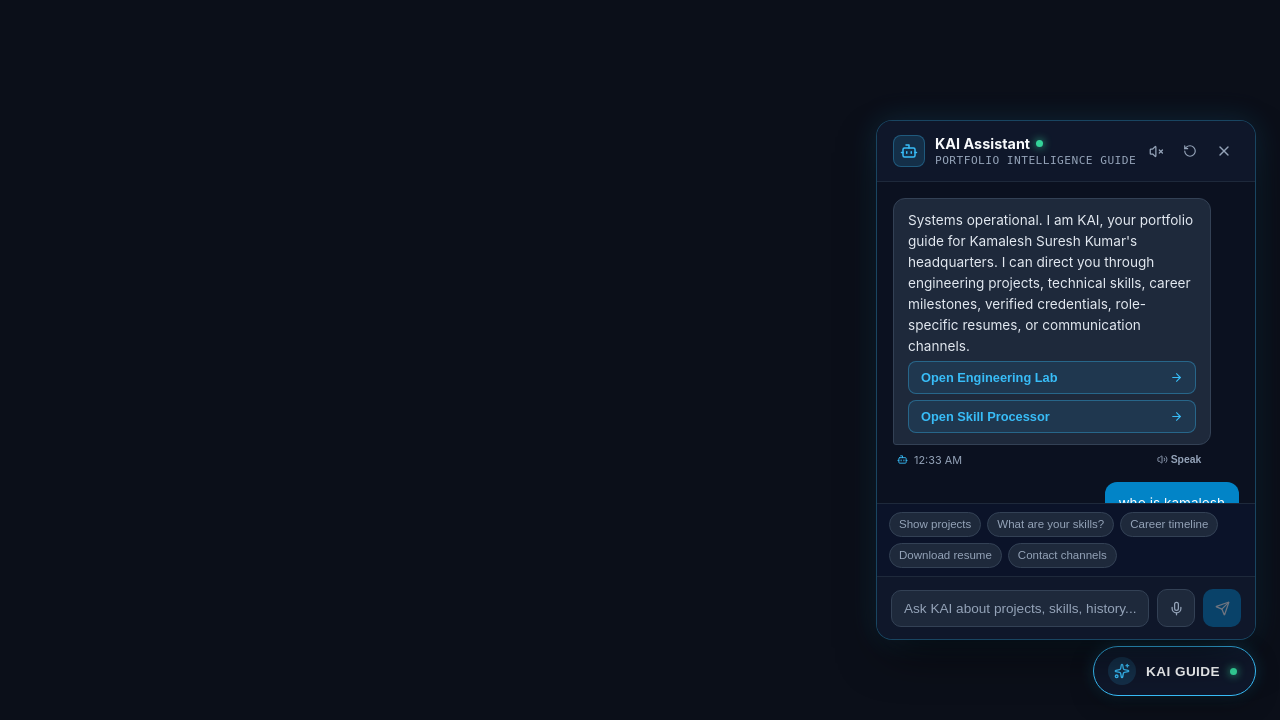
KAI HQ Feature Enhancement Batch Test Suite › Feature 2 Cooldown Protection Logic › triggers 15-second rapid message cooldown on 5 messages within 10 seconds
Earlier steps of the test are not shown.
Type "who is kamalesh" into the field named "Ask KAI a question".
click(1020, 608); type("who is kamalesh")  # box x1=891 y1=590 x2=1149 y2=626
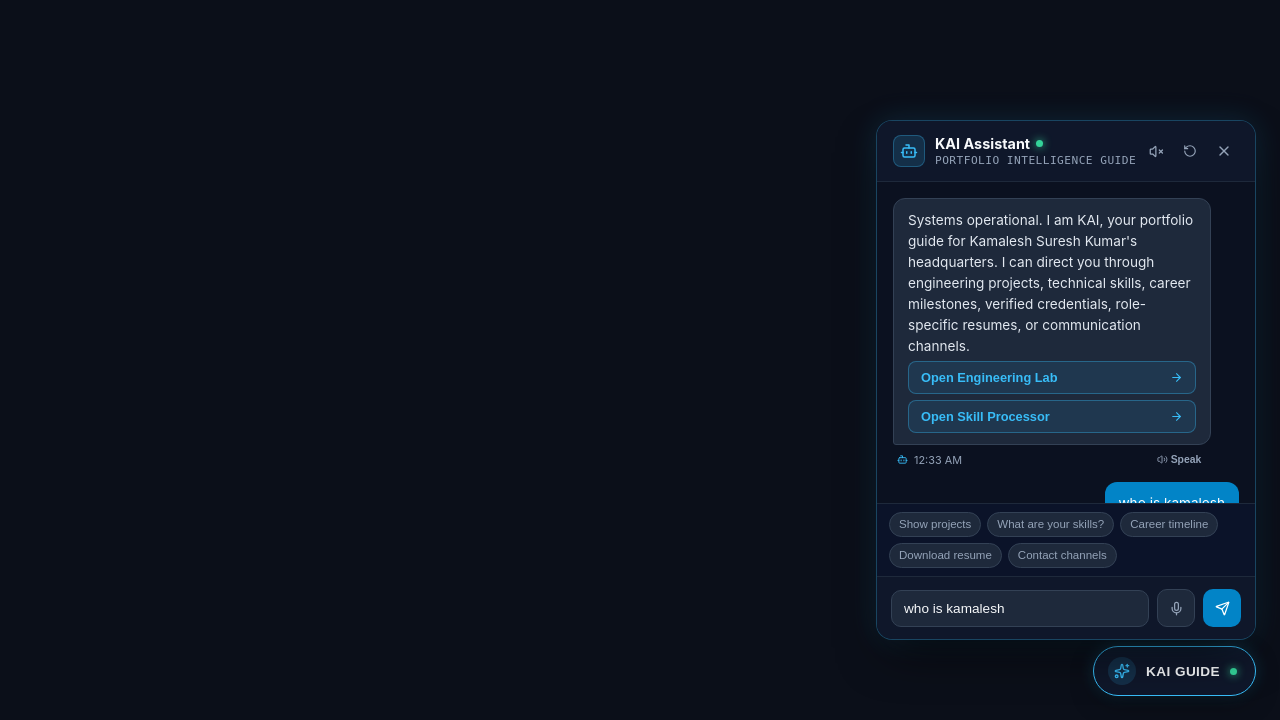
Click the button named "Send message to KAI".
click(1222, 608)  # box x1=1203 y1=589 x2=1241 y2=627
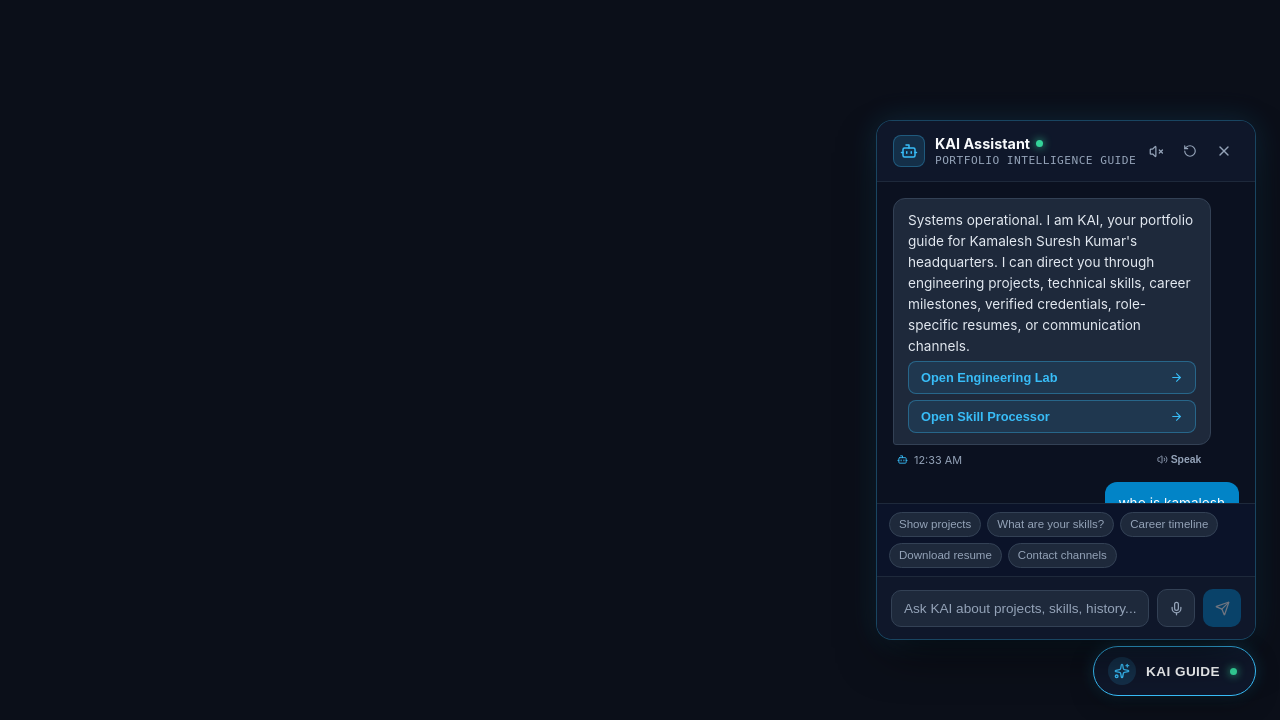
Type "who is kamalesh" into the field named "Ask KAI a question".
click(1020, 608); type("who is kamalesh")  # box x1=891 y1=590 x2=1149 y2=626
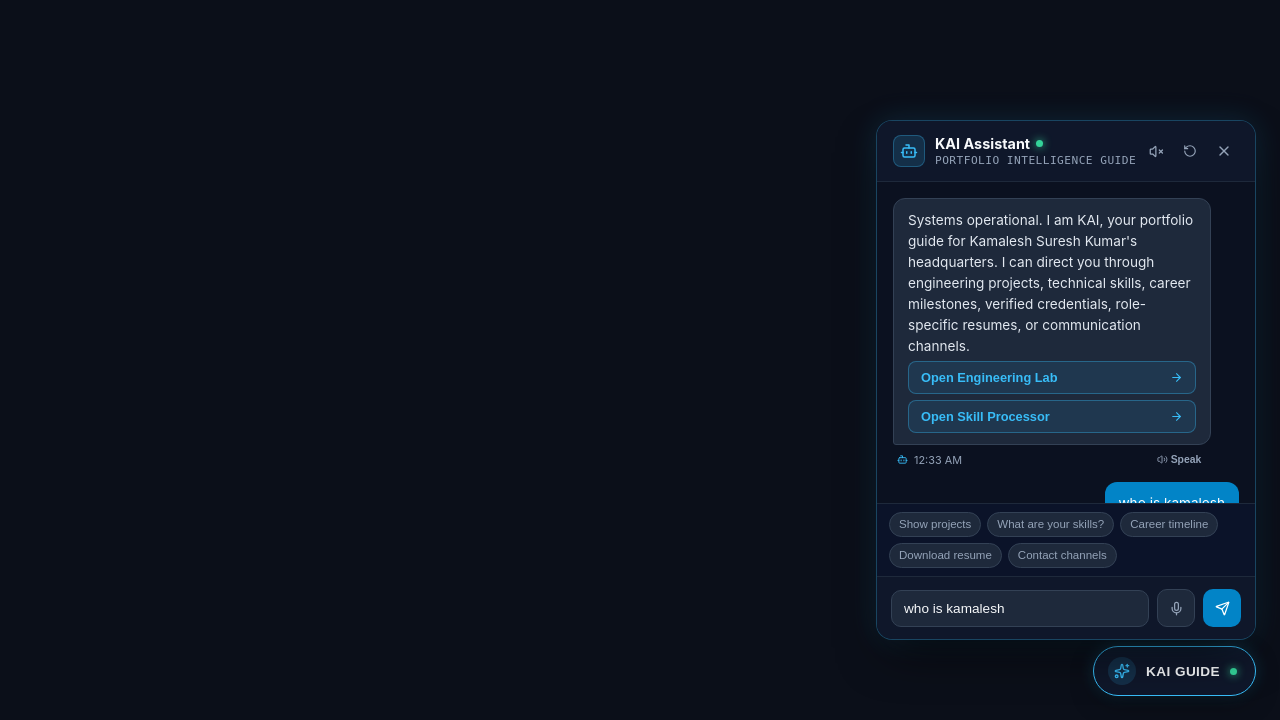
Click the button named "Send message to KAI".
click(1222, 608)  # box x1=1203 y1=589 x2=1241 y2=627
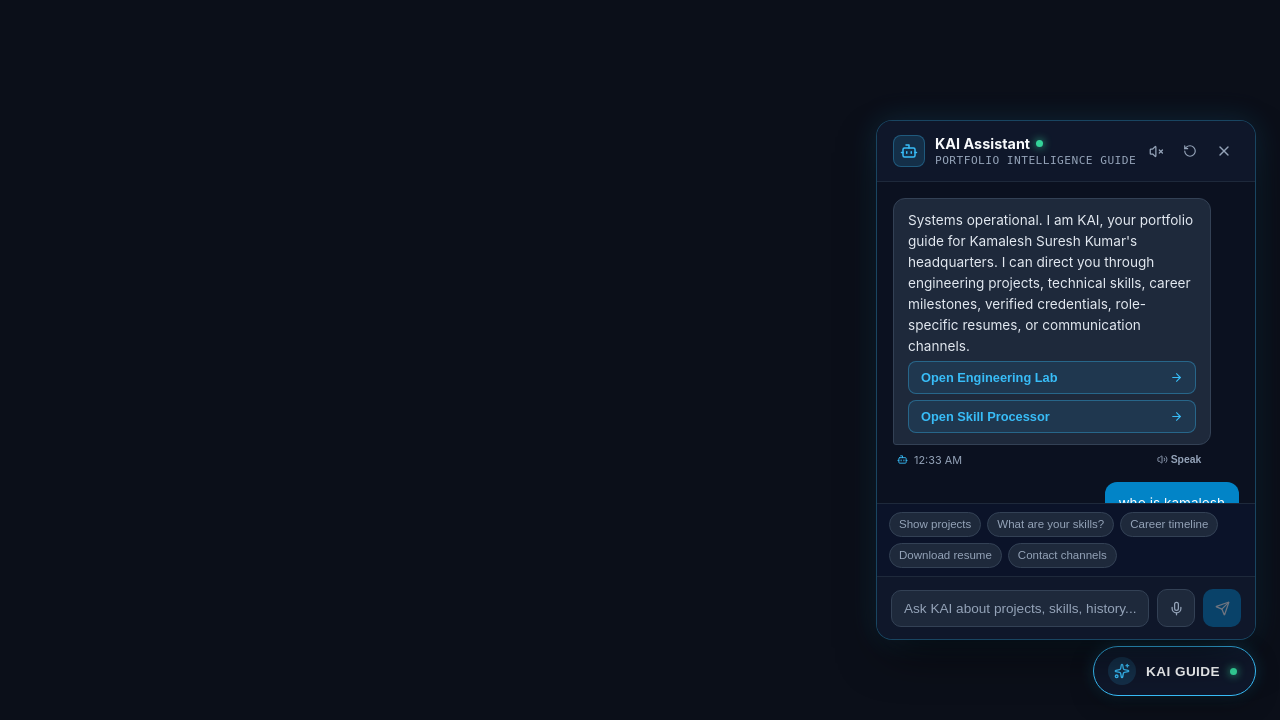
Type "who is kamalesh" into the field named "Ask KAI a question".
click(1020, 608); type("who is kamalesh")  # box x1=891 y1=590 x2=1149 y2=626
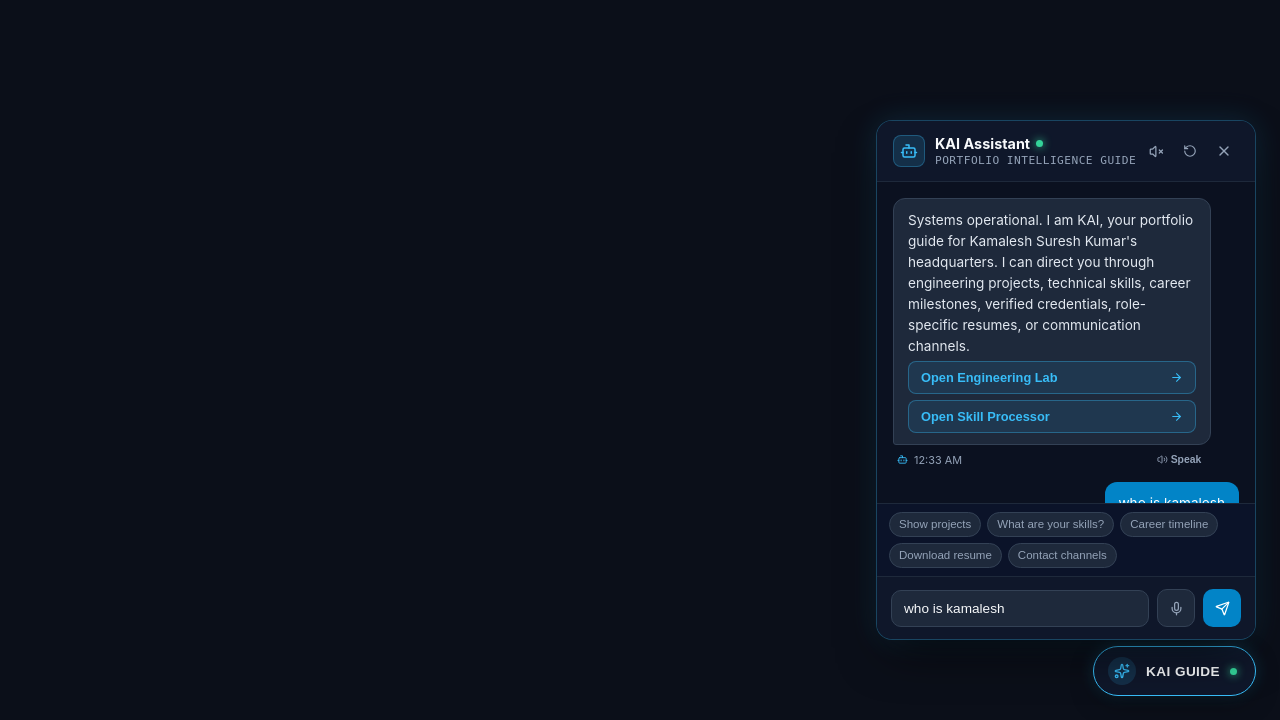
Click the button named "Send message to KAI".
click(1222, 608)  # box x1=1203 y1=589 x2=1241 y2=627
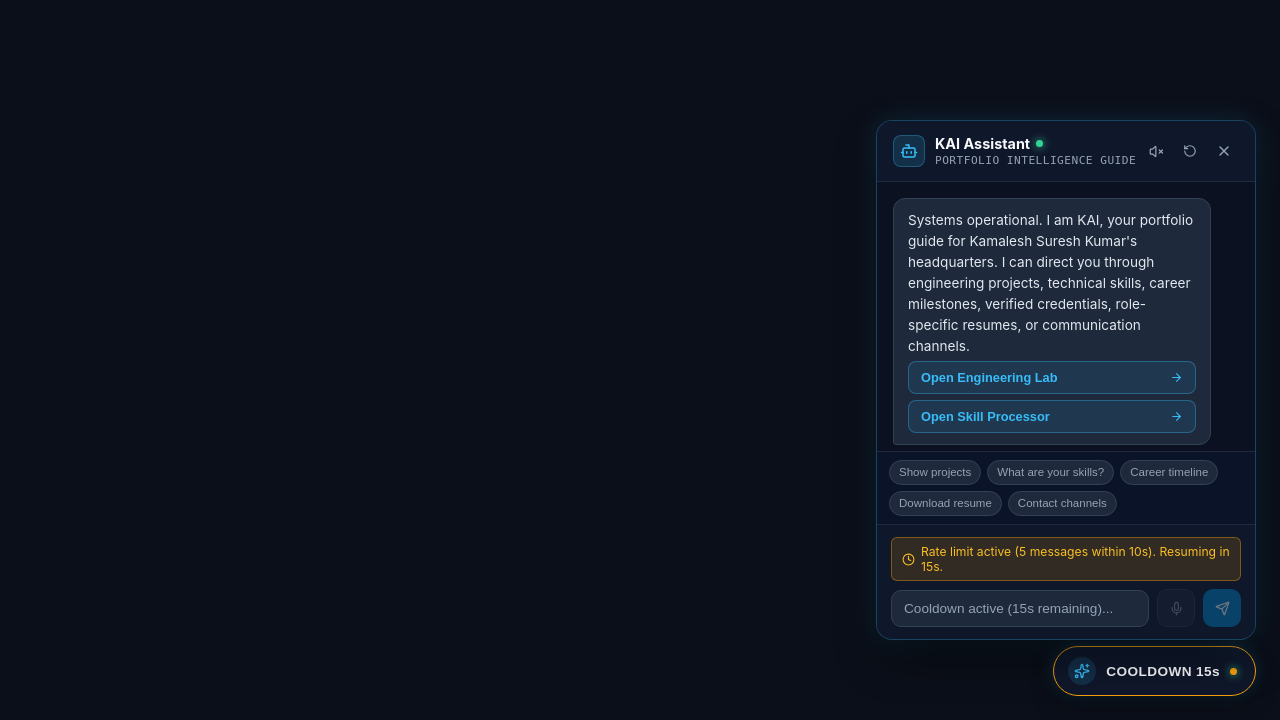
Now the field is disabled, box x1=891 y1=590 x2=1149 y2=626
Now the text "Rate limit active (5 messages within 10s). Resuming in 15s." is shown, box x1=921 y1=544 x2=1230 y2=574
